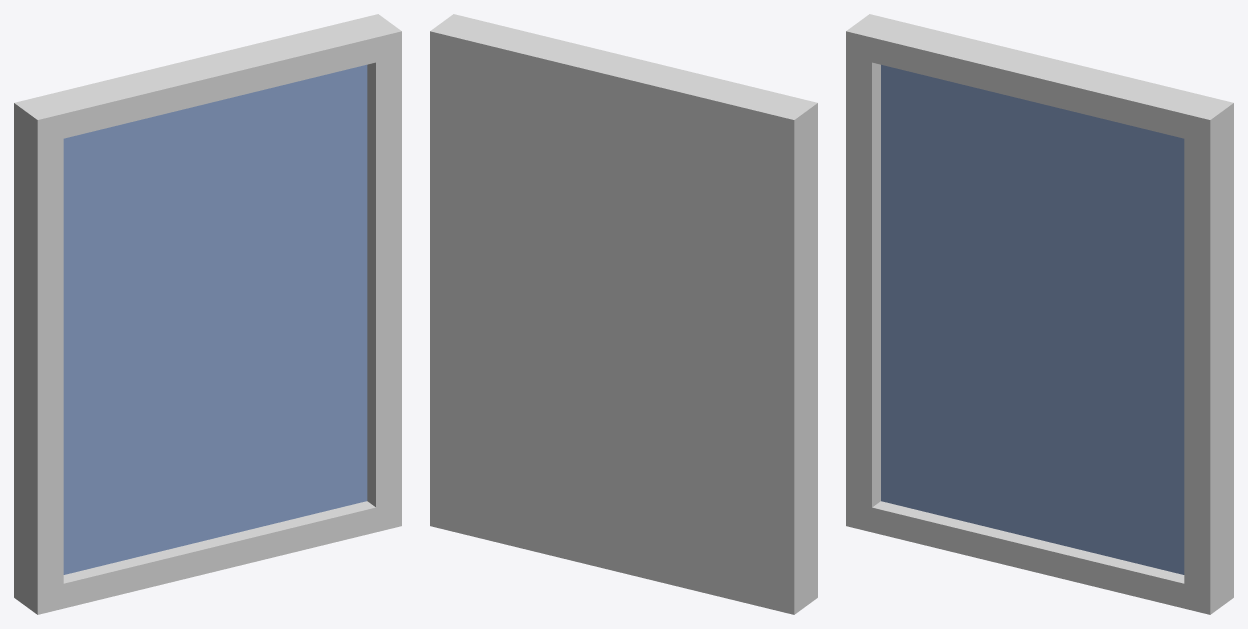
The model's file is Picture_06_dra.glb.
3 views of the same model, side by side, from view 1: azimuth 30°, elevation 25°; view 2: azimuth 150°, elevation 25°; view 3: azimuth 330°, elevation 25° (orthographic).
Visible parts, largest first — view 1: Picture_06; view 2: Picture_06; view 3: Picture_06.
Part boxes in pixels (x1,y1,x2,y2): Picture_06: (14, 14, 401, 614); Picture_06: (430, 14, 817, 614); Picture_06: (846, 14, 1233, 614).
Size of the model in its own units: 0.3842 by 0.4987 by 0.0431.
1 material, 1 textured.
